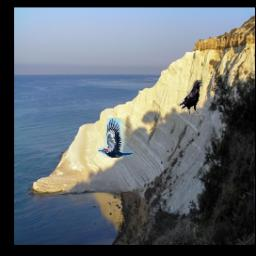Crow: (178, 80, 202, 115)
Woodpecker: (99, 119, 134, 159)
